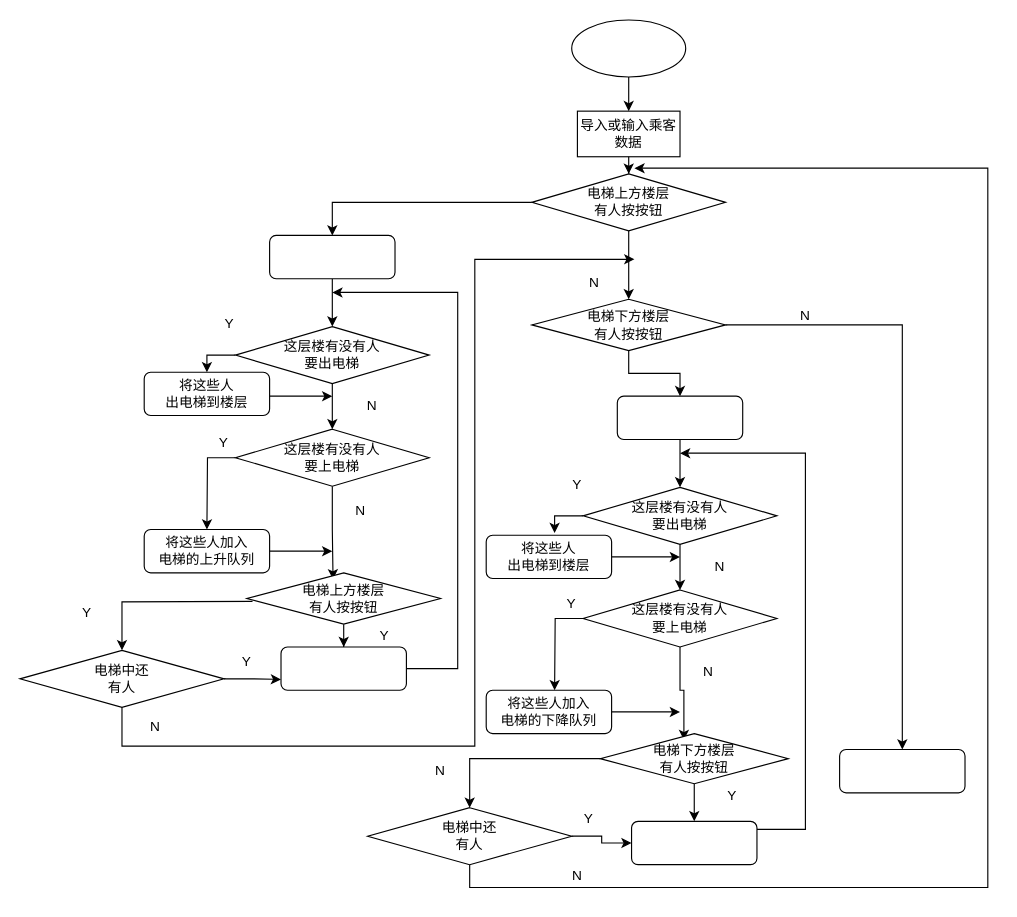
Some shapes in this 1017 by 917 pixel diagram are drawn without their labels. The centre of each missing label's shape, as x and y in pixels:
前往上一层: (343,668)
前往下一层: (693,842)
开始: (628,48)
电梯切换为 上升模式: (331,256)
电梯切换为 下降模式: (679,417)
电梯切换为 等待模式: (901,770)
